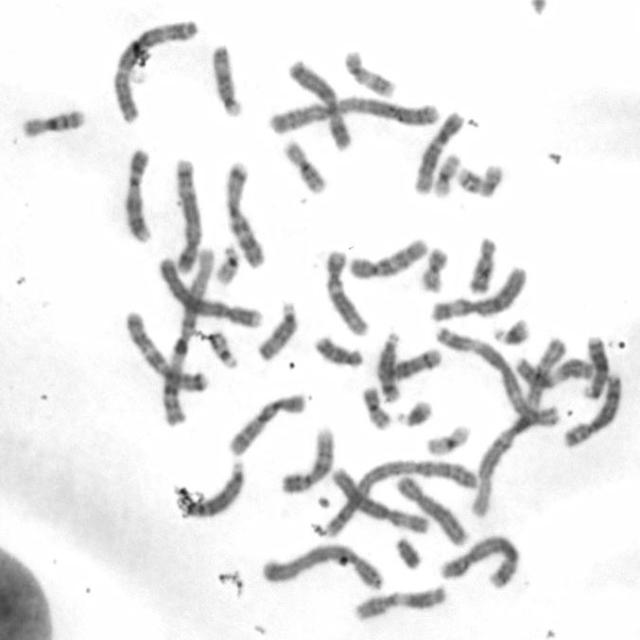A1: (469, 400, 561, 520), (157, 243, 215, 431)
A2: (321, 456, 482, 541), (264, 93, 441, 136)
A3: (430, 322, 562, 428), (107, 15, 199, 125)
B4: (155, 252, 263, 330), (257, 539, 387, 592)
B5: (436, 531, 522, 592), (170, 153, 202, 274)
C10: (223, 388, 308, 458), (344, 234, 430, 282)
C11: (349, 582, 449, 623), (511, 352, 594, 390)
C12: (409, 107, 465, 196), (322, 244, 371, 338)
C6: (328, 464, 430, 536), (426, 262, 530, 324)
C7: (121, 306, 210, 394), (220, 158, 268, 270)
C8: (392, 472, 470, 548), (560, 371, 624, 448)
C9: (276, 422, 336, 496), (120, 144, 155, 246)
D13: (174, 456, 247, 520), (579, 330, 610, 400)
D14: (376, 344, 444, 382), (373, 328, 403, 404)
D15: (252, 298, 300, 364), (208, 40, 244, 121)
E16: (280, 137, 328, 196), (18, 104, 88, 139)
E17: (340, 45, 397, 101), (454, 158, 506, 200)
E18: (465, 232, 499, 296), (310, 331, 365, 368)
F19: (422, 421, 472, 456), (430, 150, 463, 200)
F20: (416, 243, 451, 294), (359, 382, 393, 432)
G21: (392, 396, 435, 430), (491, 314, 532, 346)
G22: (205, 328, 240, 370), (212, 242, 241, 286)
X: (286, 56, 352, 152)
Y: (392, 532, 423, 572)
